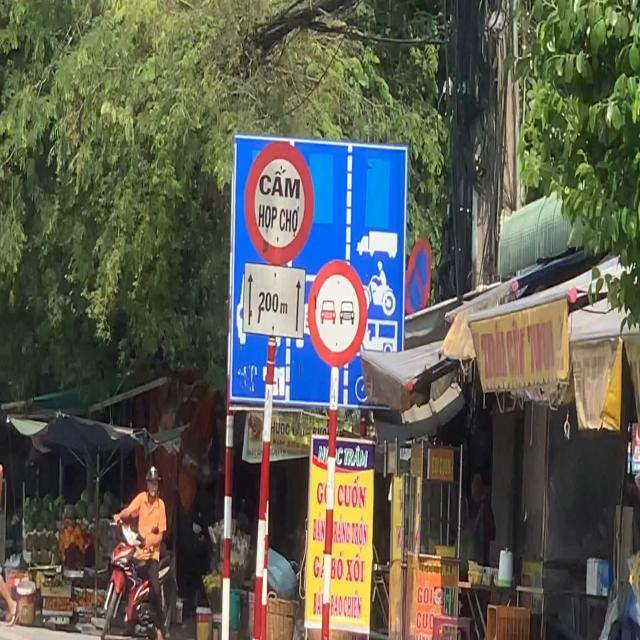Cam con lai: (308, 255, 366, 373)
